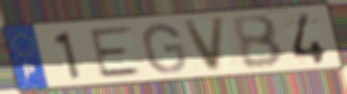1: (52, 29, 82, 81)
4: (290, 10, 328, 66)
B: (229, 13, 287, 71)
E: (87, 24, 145, 80)
G: (140, 22, 189, 75)
V: (181, 15, 229, 75)
